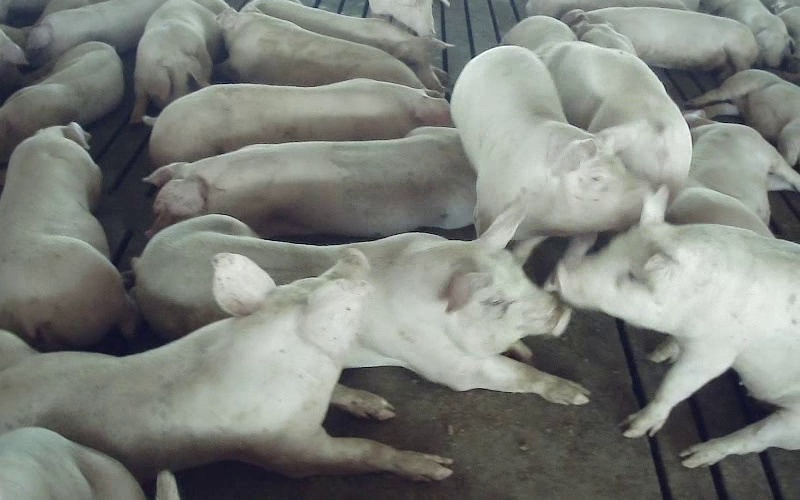pig: (0, 249, 450, 479), (134, 205, 587, 401), (555, 188, 799, 464), (451, 48, 649, 238), (146, 127, 475, 237), (0, 123, 136, 348), (143, 79, 450, 166), (535, 41, 691, 193), (241, 0, 451, 92), (666, 111, 799, 235), (218, 10, 423, 87), (0, 42, 123, 163), (562, 7, 758, 77), (688, 69, 799, 165), (699, 0, 789, 67)
